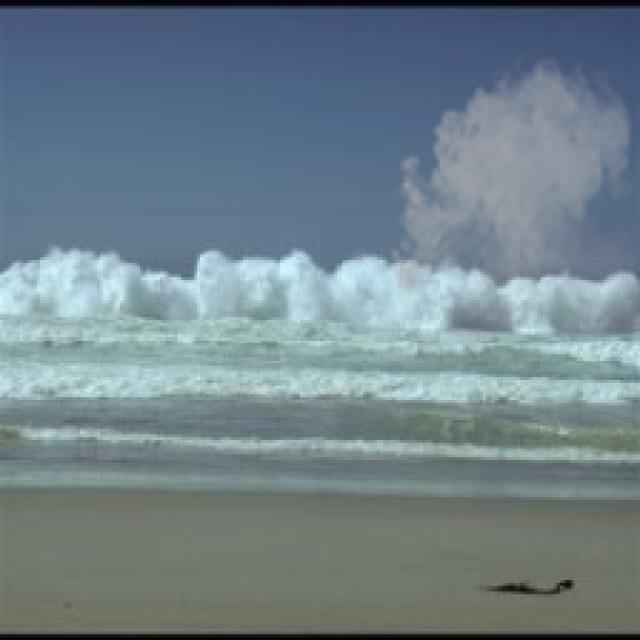Smoke: (382, 48, 638, 332)
